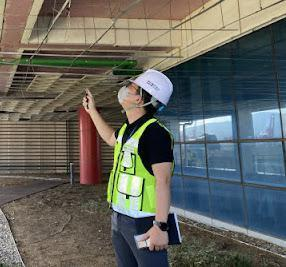helmet: (128, 68, 173, 106)
